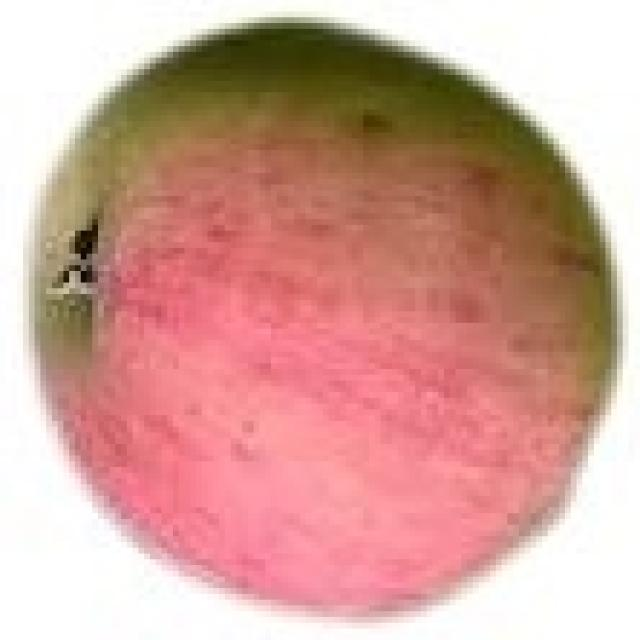75-_ripeness: (22, 26, 614, 608)
